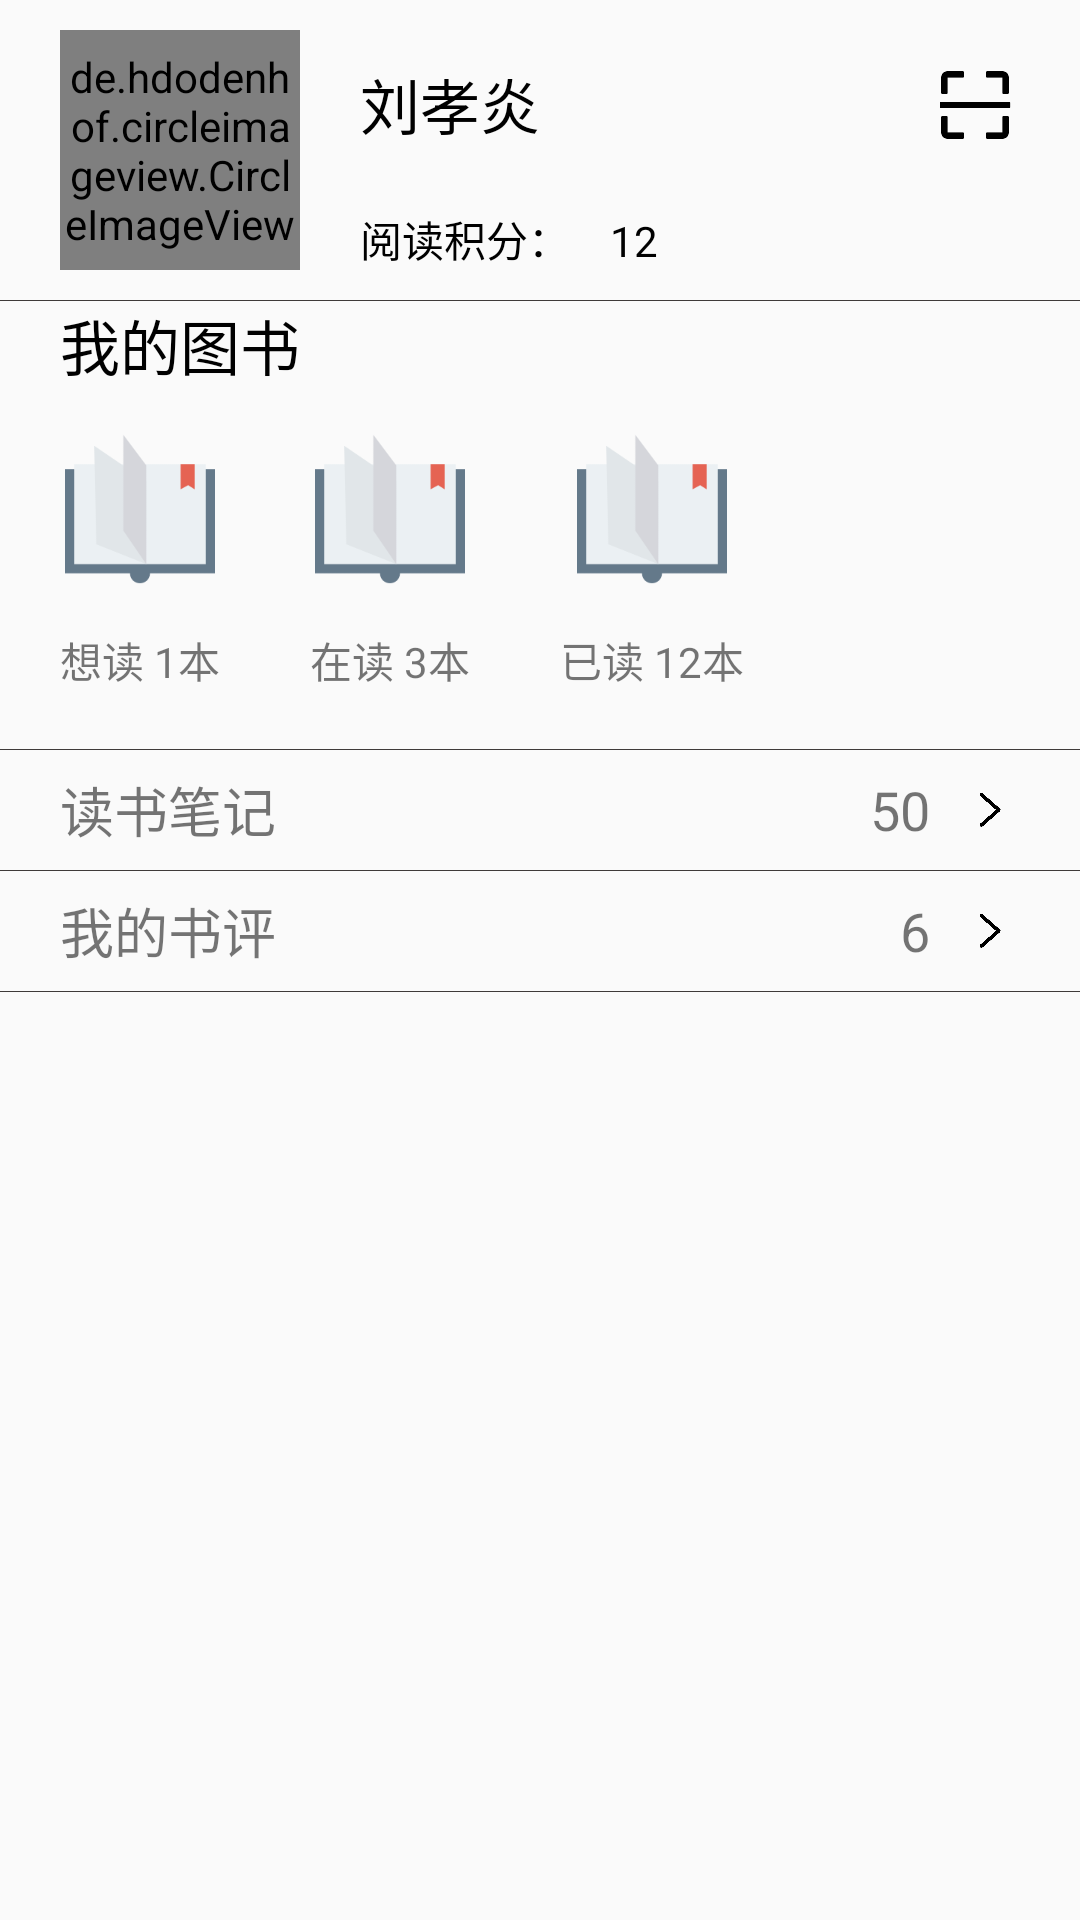

Icons on this 1080*1920 Android screen, each with its box as bbox(x1, y1, x2, y2):
enter: bbox(980, 793, 1001, 827), bbox(980, 914, 1001, 948)
notebook: bbox(65, 435, 215, 584), bbox(315, 435, 465, 584), bbox(577, 435, 727, 584)
scan: bbox(940, 71, 1011, 139)
